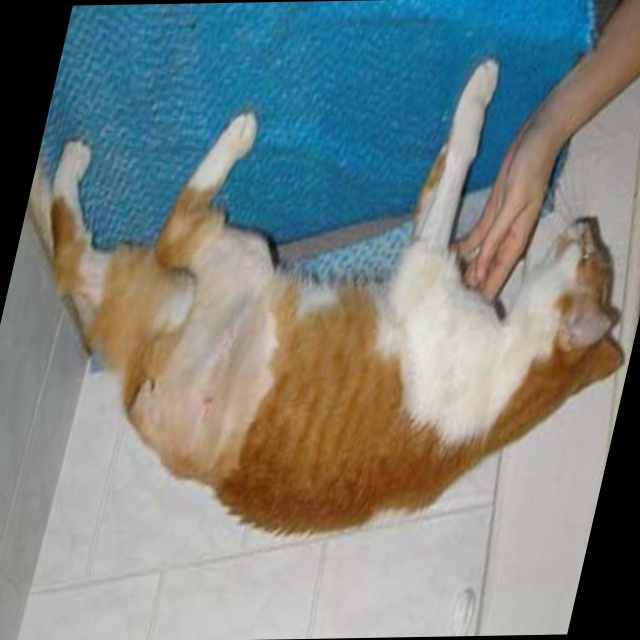hairloss: (375, 209, 572, 409), (145, 236, 297, 473)
